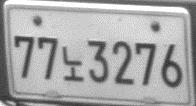2: (112, 40, 135, 86)
3: (87, 39, 109, 82)
6: (160, 44, 182, 88)
7: (134, 42, 157, 87), (13, 35, 34, 79), (37, 36, 58, 80)
노: (60, 45, 86, 82)
